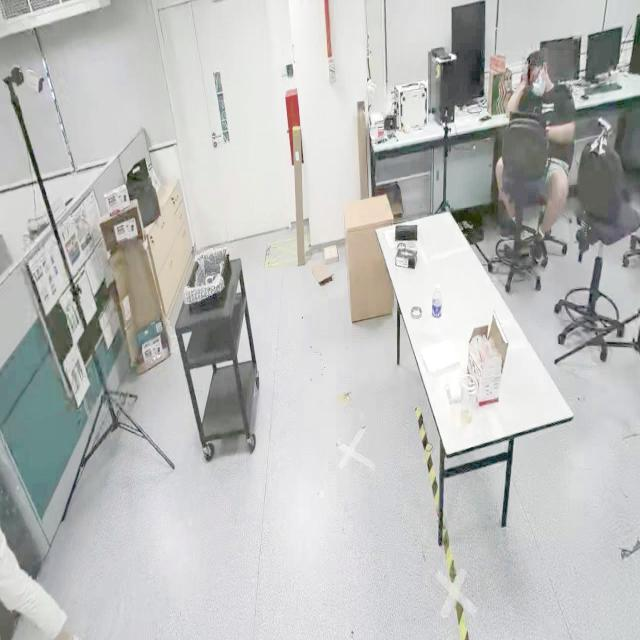face_mask: (531, 66, 549, 100)
hand_noglove: (521, 57, 530, 86)
head_nohelmet: (526, 48, 548, 65)
person: (498, 51, 574, 242)
